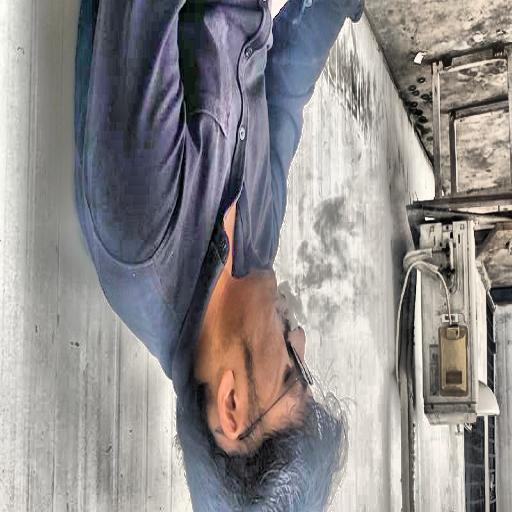Rokok: (74, 0, 364, 512)
